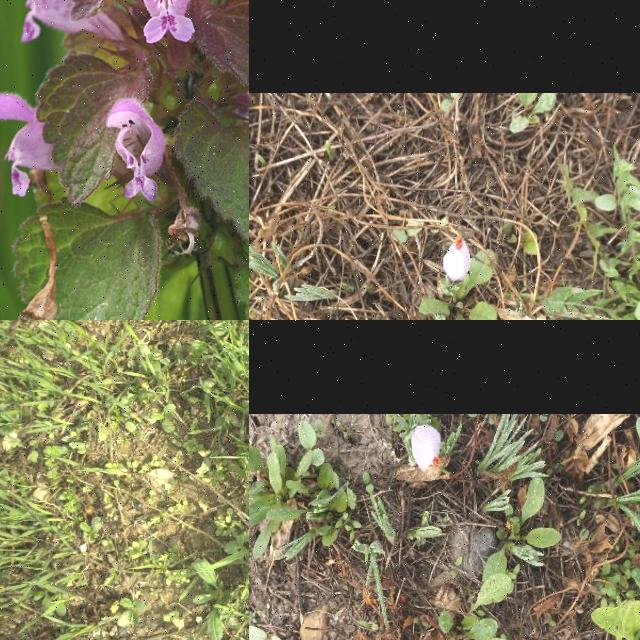flower: (412, 424, 442, 472), (443, 235, 471, 282)
